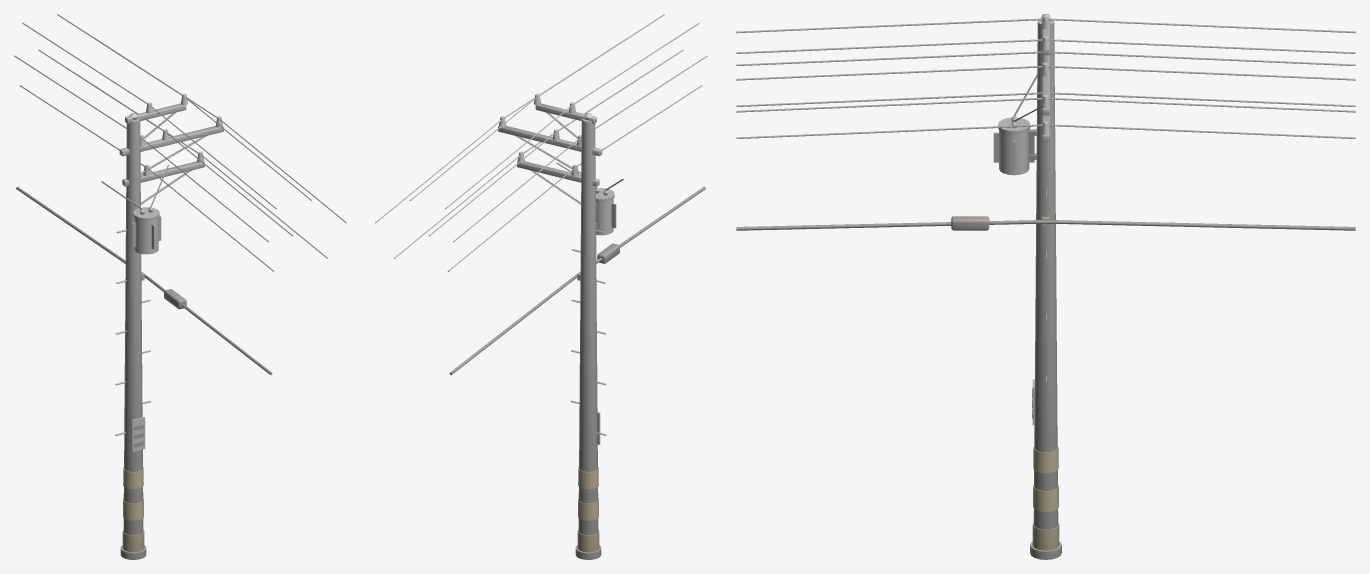
File: pole.glb
3 renders of one model, left to right at view 1: azimuth 30°, elevation 25°; view 2: azimuth 150°, elevation 25°; view 3: azimuth 270°, elevation 25°, orthographic. The views are drawn at different scales.
Parts seen in each view (by area): view 1: pole.001; view 2: pole.001; view 3: pole.001.
Boxes of the visible parts, <box> form: pole.001: <box>14,14,346,559</box>; pole.001: <box>375,14,707,559</box>; pole.001: <box>736,14,1355,559</box>.
Size of the model in its own units: 2.29 by 7.96 by 8.18.
